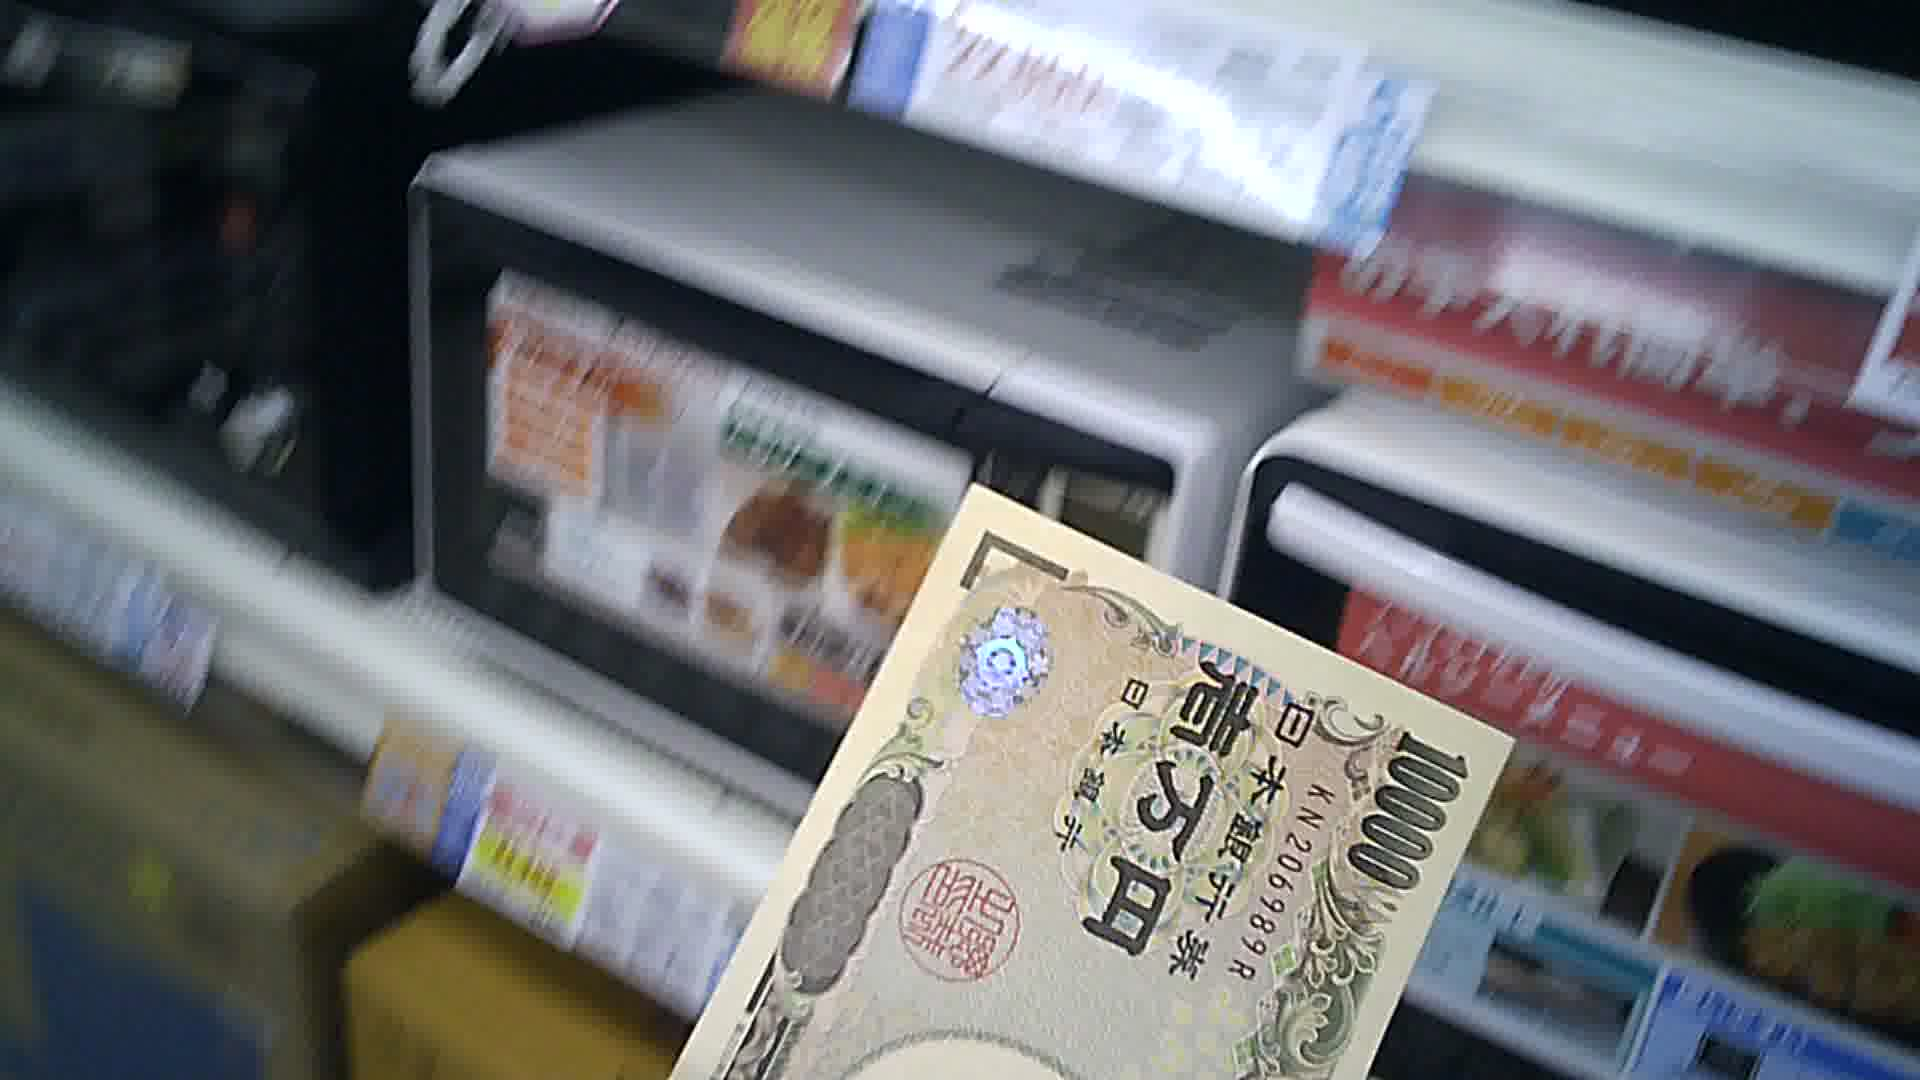10,000 Yen: (647, 454, 1524, 1079)
